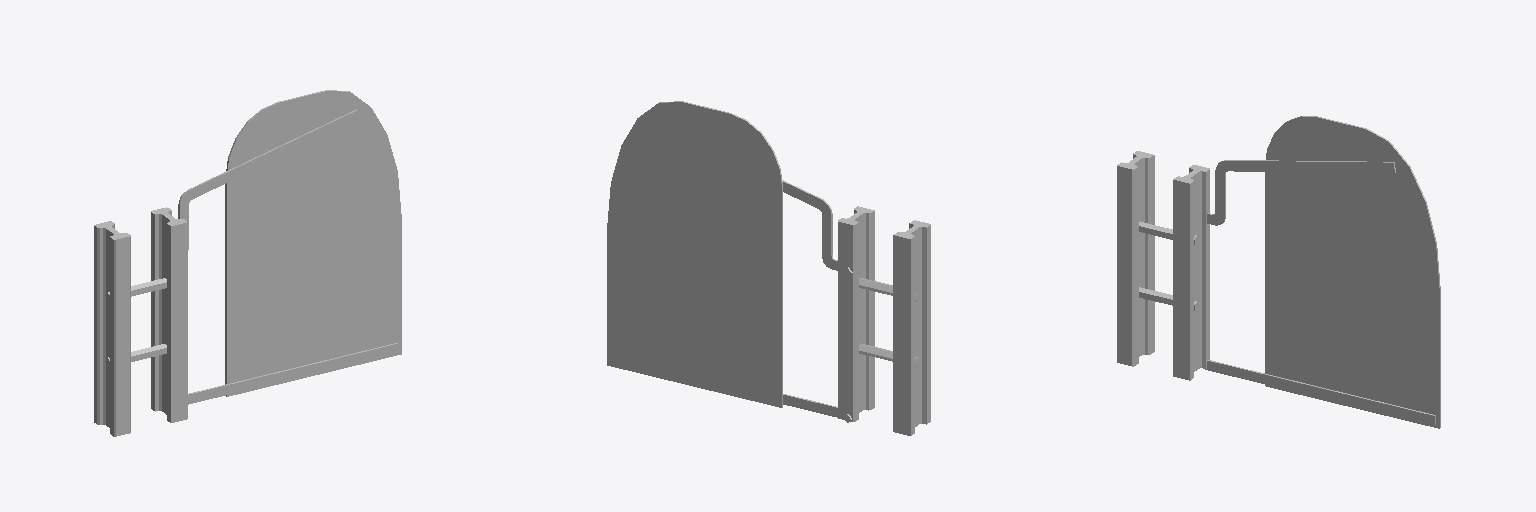
Rendered from lms_post_rail_backplate_mid.obj.
The picture shows the model from 3 angles: view 1: azimuth 30°, elevation 25°; view 2: azimuth 150°, elevation 25°; view 3: azimuth 330°, elevation 25°; orthographic projection.
Parts seen in each view (by area): view 1: backplate_railpost_mid_Cube.027; view 2: backplate_railpost_mid_Cube.027; view 3: backplate_railpost_mid_Cube.027.
Boxes of the visible parts, x1=… form: backplate_railpost_mid_Cube.027: x1=94, y1=90, x2=401, y2=436; backplate_railpost_mid_Cube.027: x1=607, y1=101, x2=930, y2=435; backplate_railpost_mid_Cube.027: x1=1117, y1=116, x2=1440, y2=428.
Size of the model in its own units: 1.62 by 1.43 by 0.2012.